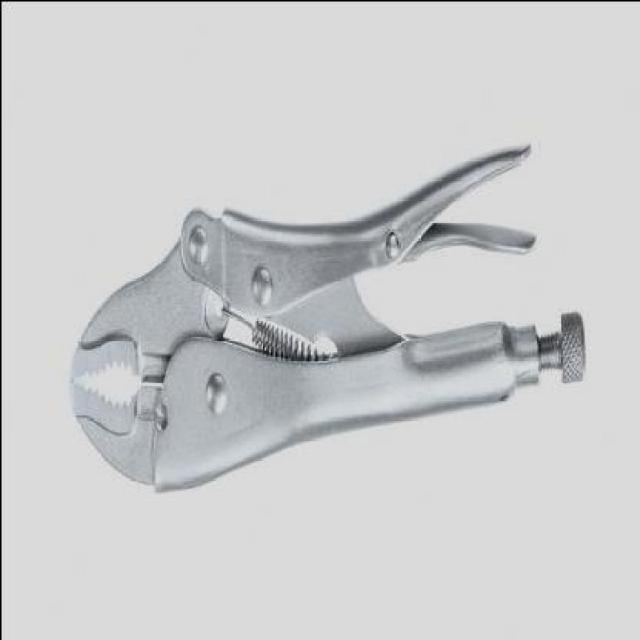pliers: (69, 136, 592, 502)
